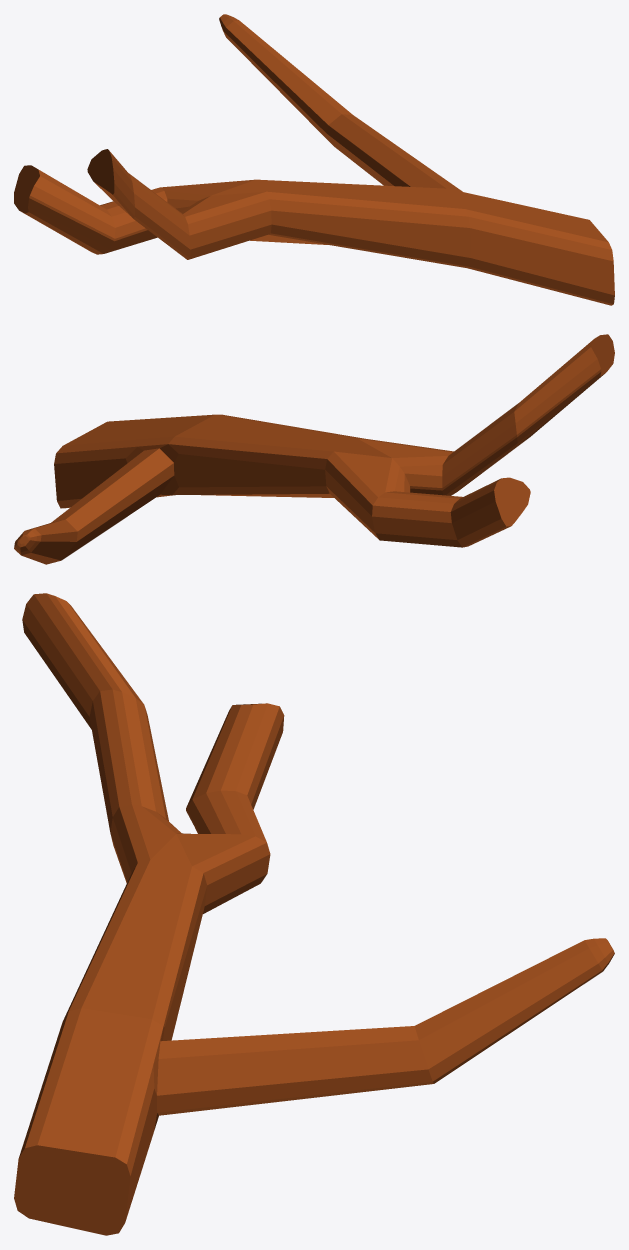
The model's file is agac_dal8.fbx.
3 renders of one model, top to bottom at view 1: azimuth 30°, elevation 25°; view 2: azimuth 150°, elevation 25°; view 3: azimuth 270°, elevation 25°, orthographic. The views are drawn at different scales.
Parts seen in each view (by area): view 1: Cylinder.021; view 2: Cylinder.021; view 3: Cylinder.021.
Part boxes in pixels (<box>): Cylinder.021: <box>14,14,614,305</box>; Cylinder.021: <box>14,334,614,564</box>; Cylinder.021: <box>14,593,614,1235</box>.
Bounding box in the file's own units: 5.11 × 2.6 × 4.17.
